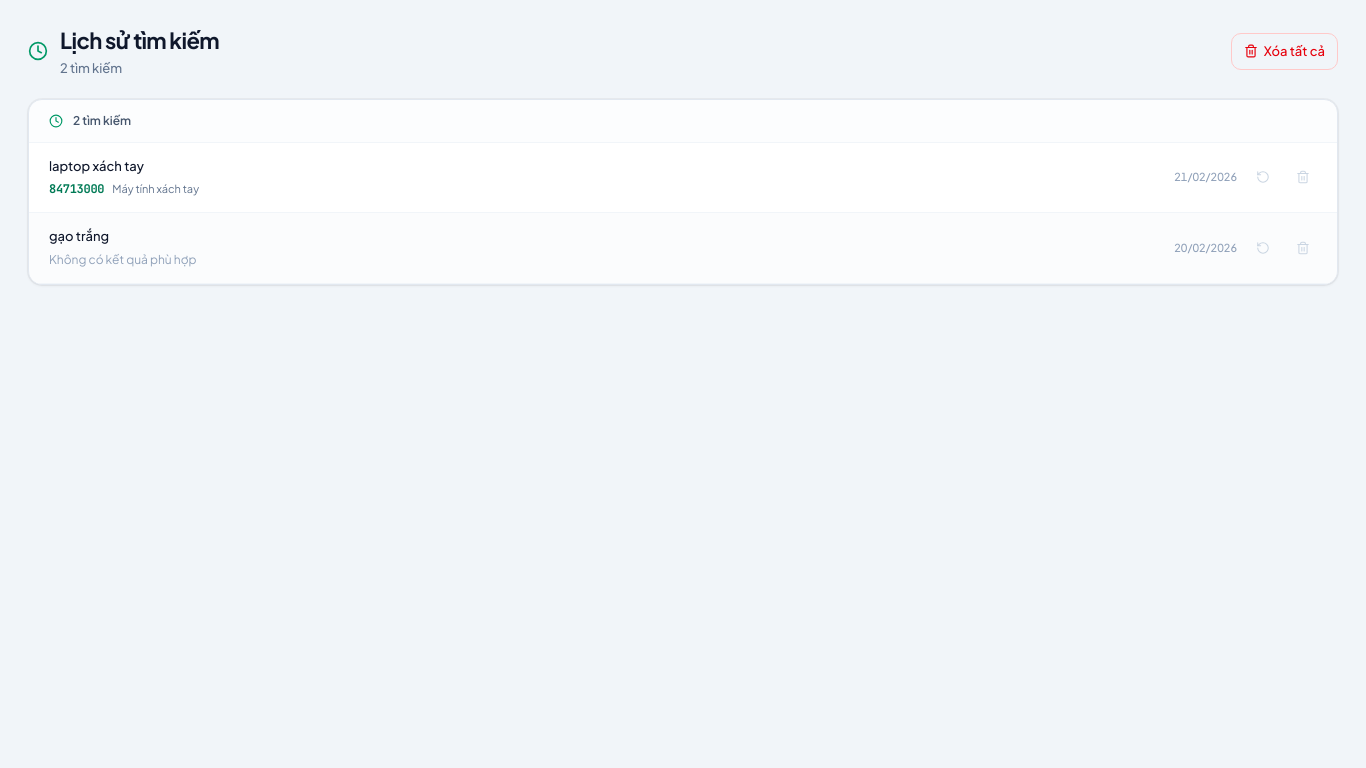
HistoryPage › clicking 'Hủy' closes dialog without deleting
What coordinates should you click on to do the following:
click the button "Xóa tất cả"
I would click on:
 (1284, 51)
Its box is [1231, 32, 1338, 70].
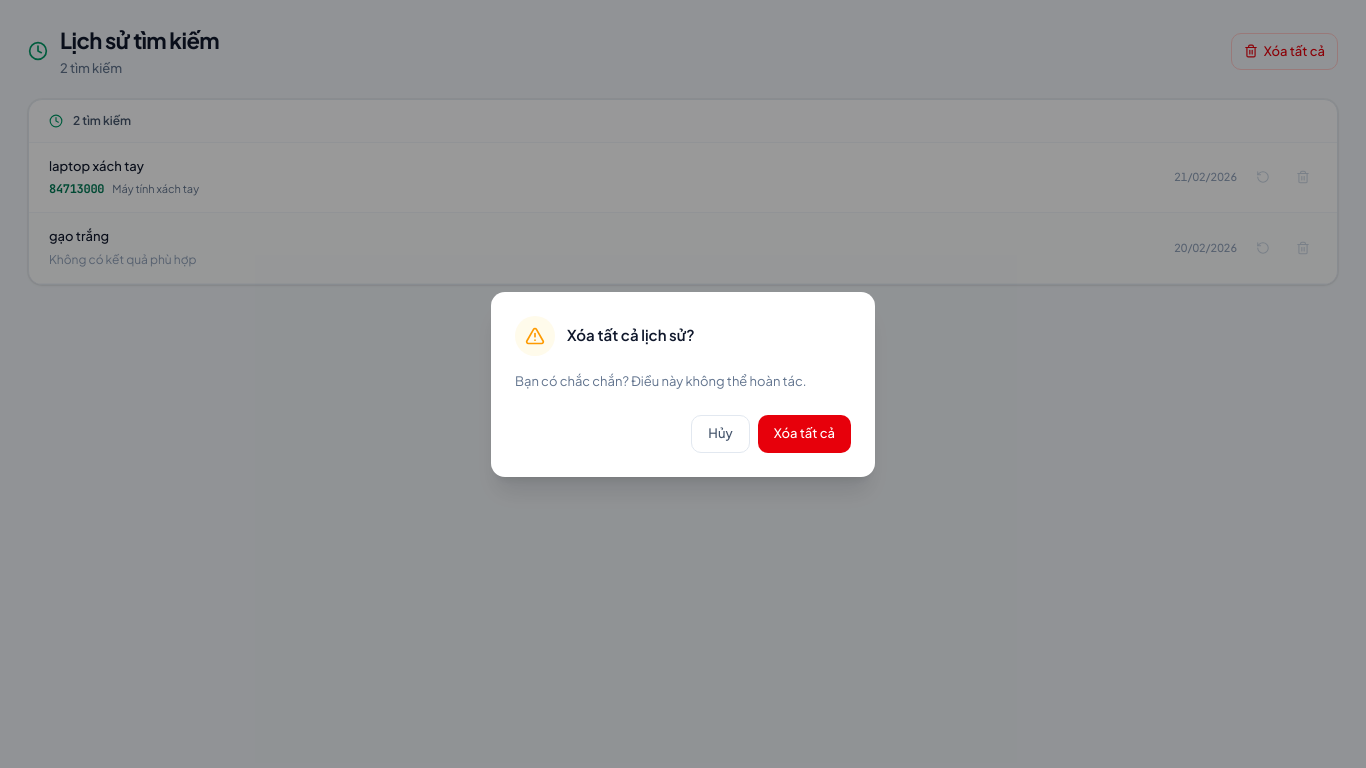
Now the heading "Xóa tất cả lịch sử?" is shown, box [567, 324, 695, 347]
What coordinates should you click on to do the following:
click the button "Hủy"
I would click on:
 (721, 434)
Its box is [691, 415, 750, 452].
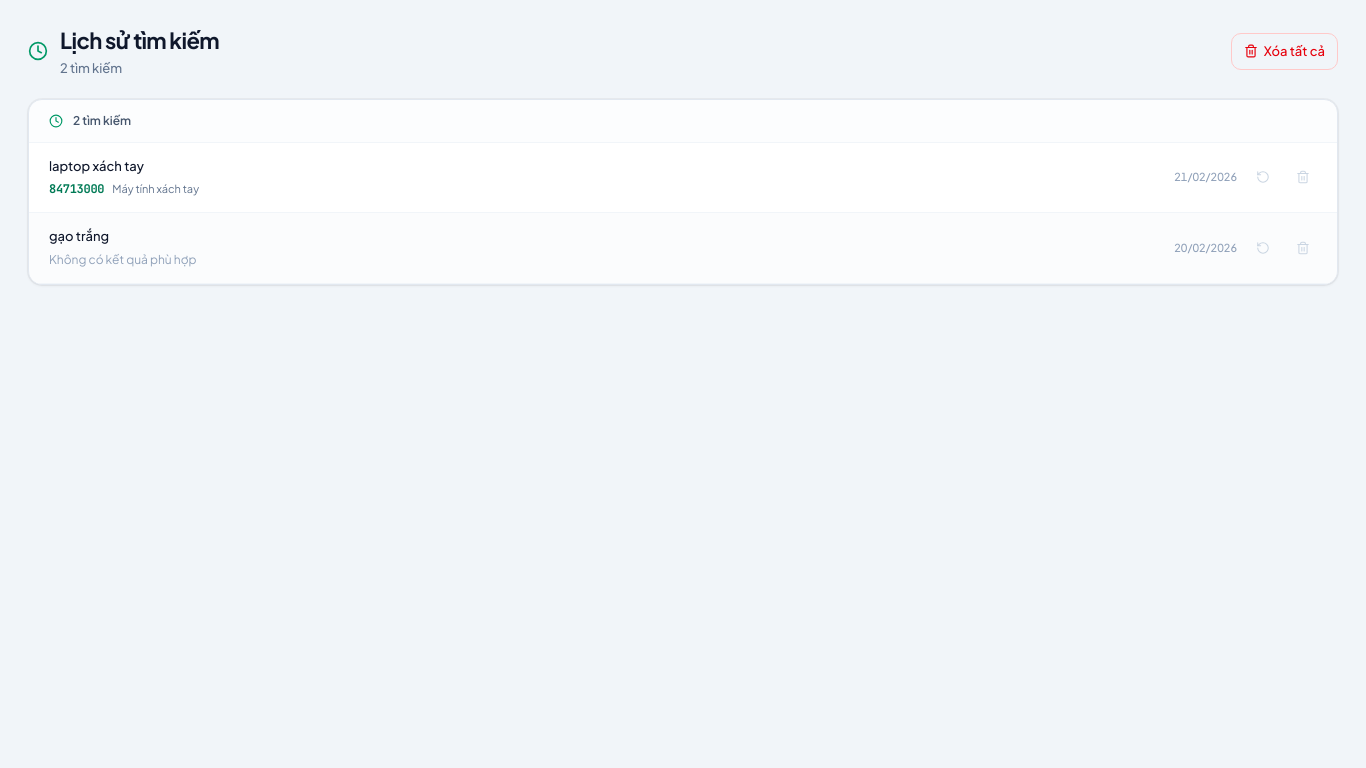
Expected: the text "laptop xách tay" is shown, [49, 158, 144, 174]
Now the heading "Xóa tất cả lịch sử?" is gone
